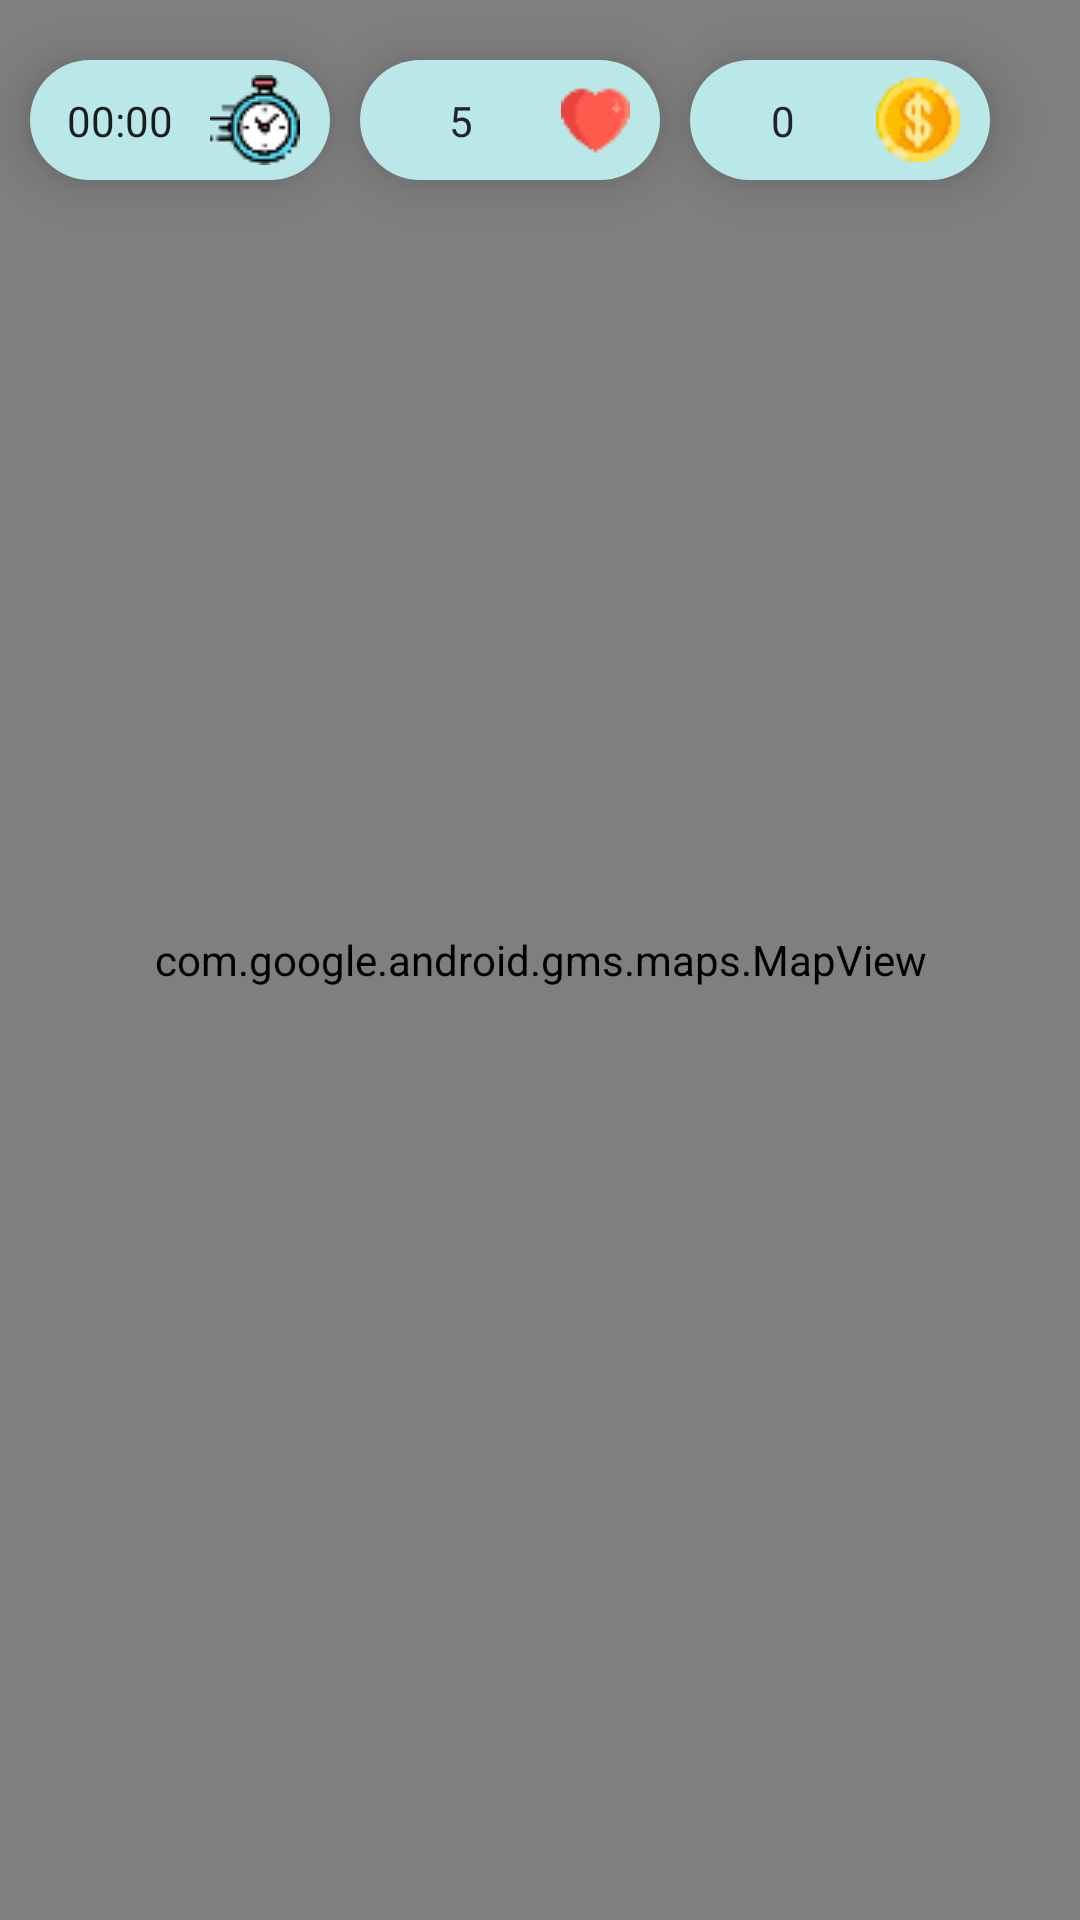

Icon bounding boxes for this 1080x1920 phone screenshot, format (x1, y1, x2, y2):
clock: (210, 75, 300, 165)
dollar: (876, 78, 960, 162)
heart: (561, 88, 630, 153)
